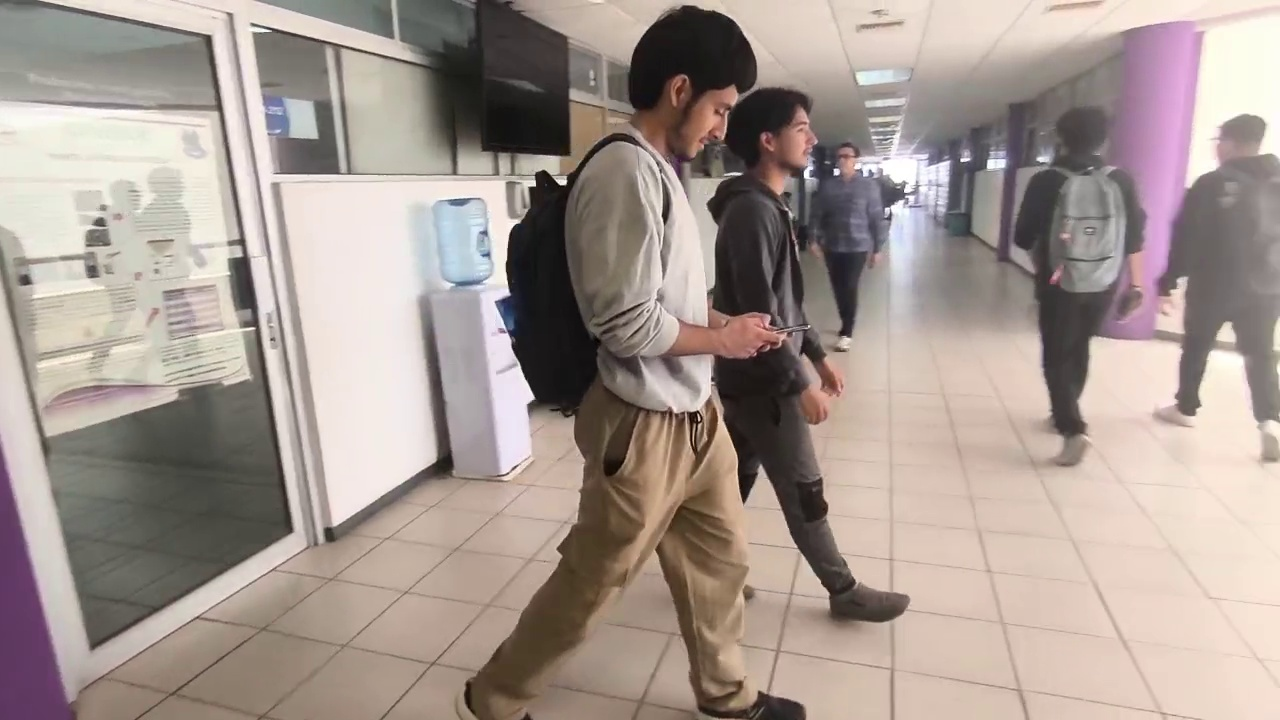mixto2: (769, 317, 813, 339)
